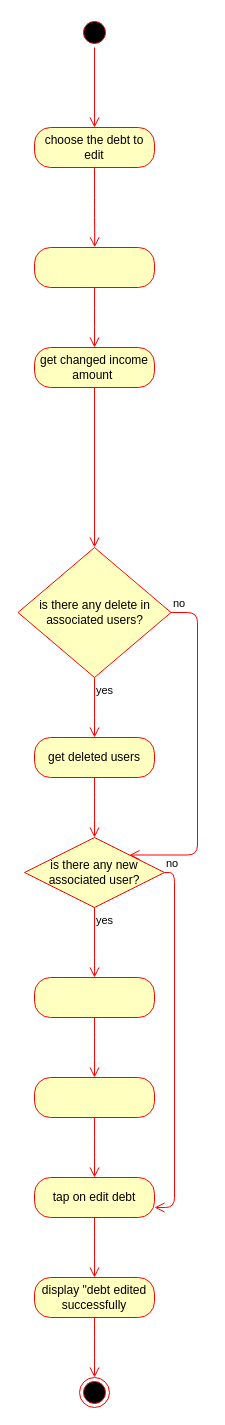
The diagram is 225 pixels wide and 1425 high, and some of its shapes have lost their labels. Each missing label, with the centre of its shape:
"get association percent" goes at point (94, 1097).
"get changed related account" goes at point (94, 267).
"get new associated users" goes at point (94, 997).
